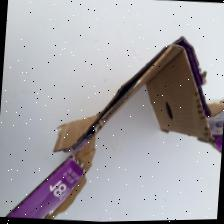cardboard: (5, 12, 224, 224)
